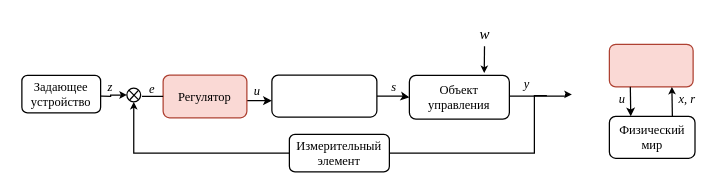
The diagram is 728 pixels wide and 194 high, and some of its shapes have lost their labels. Each missing label, with the centre of its shape:
Агент /Регулятор: point (650, 65)
Исполнительный механизм: point (324, 95)
